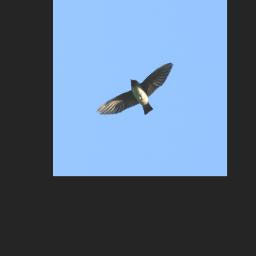Swallow: (95, 61, 174, 121)
